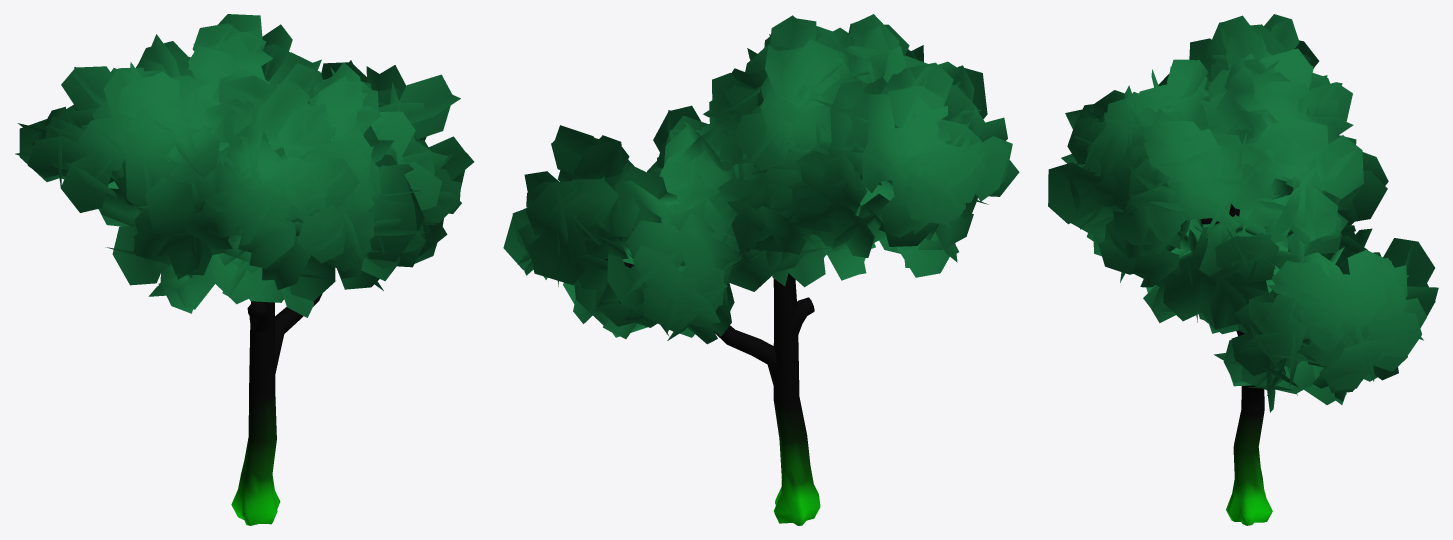
File: SM_OakTreeLarge3.fbx
3 renders of one model, left to right at view 1: azimuth 30°, elevation 25°; view 2: azimuth 150°, elevation 25°; view 3: azimuth 270°, elevation 25°, orthographic. The views are drawn at different scales.
Visible parts, largest first — view 1: SM_OakTreeLarge3_LOD0; view 2: SM_OakTreeLarge3_LOD0; view 3: SM_OakTreeLarge3_LOD0.
Part boxes in pixels (bbox=[...]): SM_OakTreeLarge3_LOD0: bbox=[15, 14, 474, 525]; SM_OakTreeLarge3_LOD0: bbox=[503, 14, 1019, 525]; SM_OakTreeLarge3_LOD0: bbox=[1048, 14, 1438, 525].
Bounding box in the file's own units: 3305 × 3456 × 2711.
